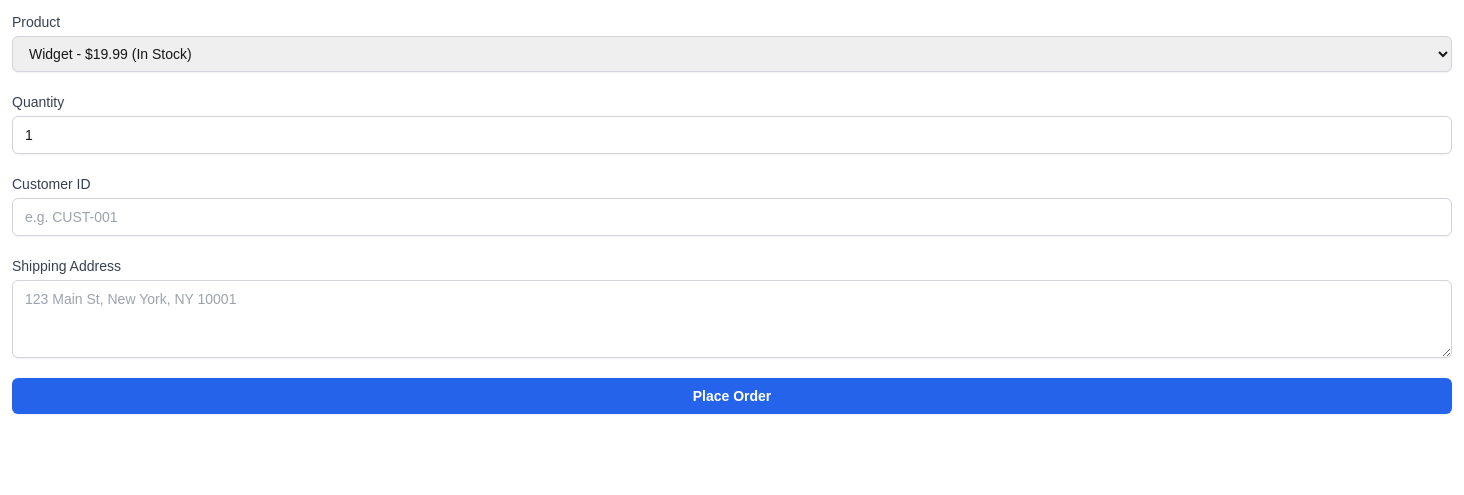
Scenario: OrderForm › shows submit error on network failure
This screenshot has width=1464, height=495.
Type "CUST-001" into the field labelled "Customer ID" at (732, 217), box [12,198,1452,236]
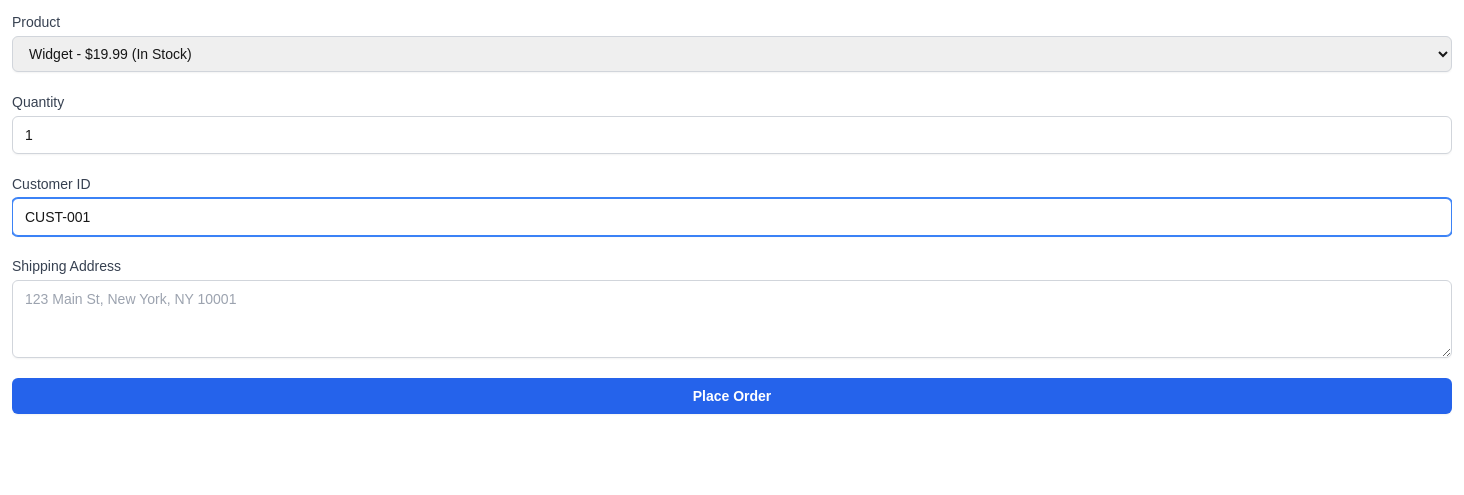
Type "123 Main St" into the text box labelled "Shipping Address" at (732, 319), box [12,280,1452,358]
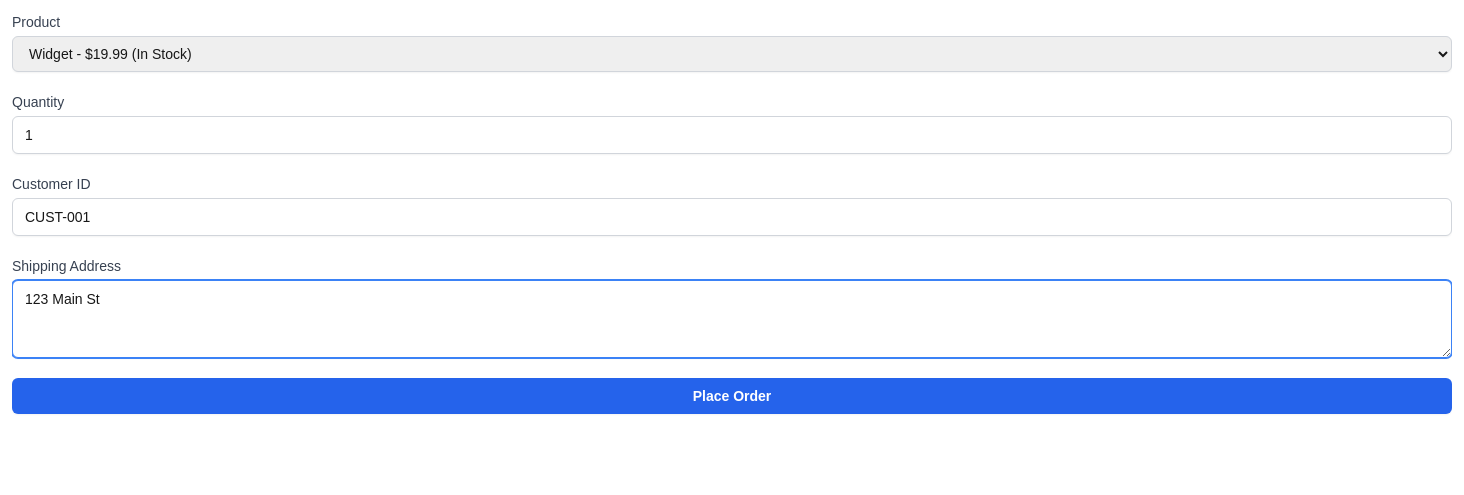
Click the button "Place Order" at (732, 396), box [12,378,1452,414]
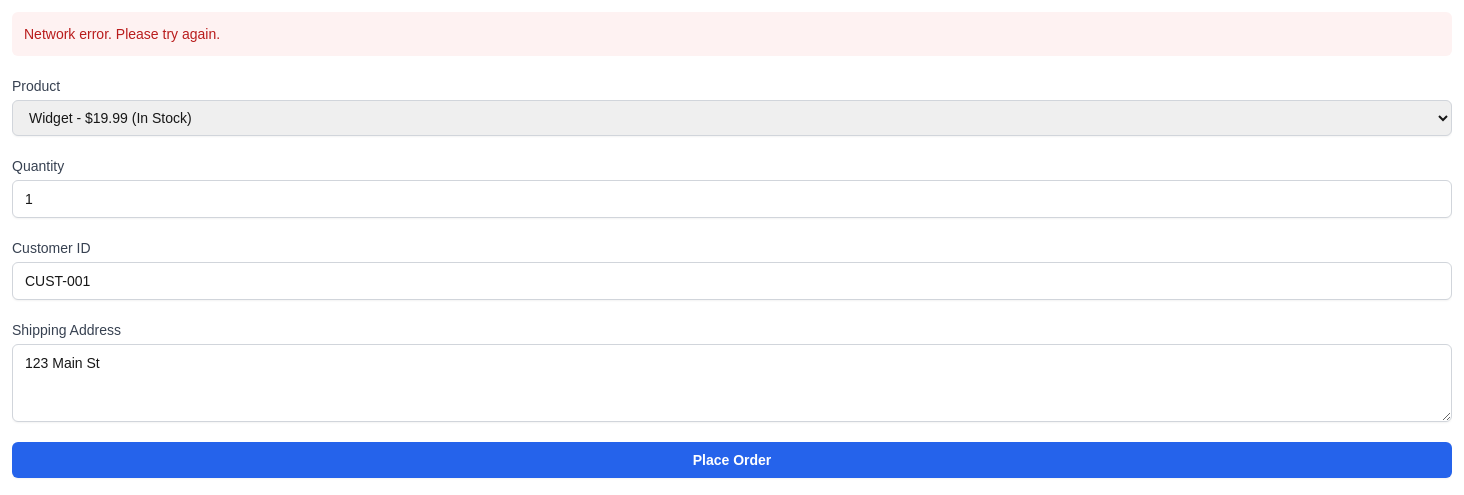
Expected: the text "Network error. Please try again." is shown, [12,12,1452,56]
